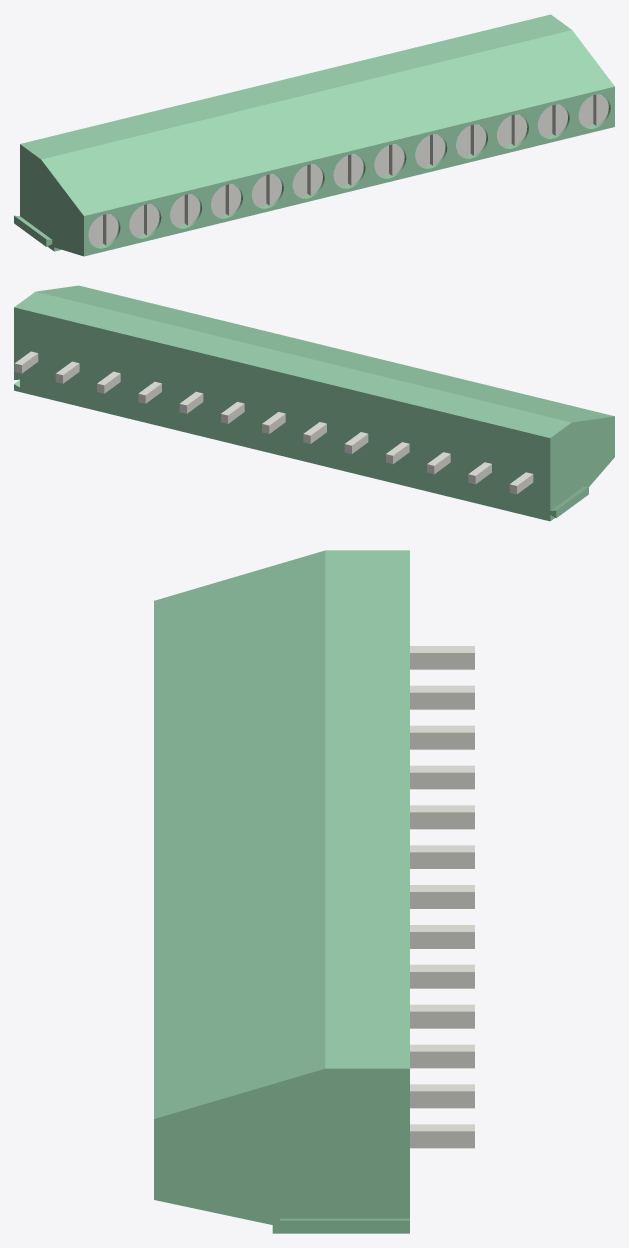
Rendered from TerminalBlock_Phoenix_MKDS-1,5-13-5.08_1x13_P5.08mm_Horizontal.glb.
3 renders of one model, top to bottom at view 1: azimuth 30°, elevation 25°; view 2: azimuth 150°, elevation 25°; view 3: azimuth 270°, elevation 25°, orthographic. The views are drawn at different scales.
Visible parts, largest first — view 1: Shape_IndexedFaceSet.003, Shape_IndexedFaceSet.004, Shape_IndexedFaceSet.002, Shape_IndexedFaceSet; view 2: Shape_IndexedFaceSet.005, Shape_IndexedFaceSet.004, Shape_IndexedFaceSet.003, Shape_IndexedFaceSet; view 3: Shape_IndexedFaceSet.003, Shape_IndexedFaceSet.004, Shape_IndexedFaceSet.011, Shape_IndexedFaceSet.032, Shape_IndexedFaceSet.036, Shape_IndexedFaceSet.040, Shape_IndexedFaceSet.052, Shape_IndexedFaceSet.060, Shape_IndexedFaceSet.064, Shape_IndexedFaceSet.072, Shape_IndexedFaceSet.080, Shape_IndexedFaceSet.044 (+4 smaller).
Boxes of the visible parts, left/top/right/bottom form: Shape_IndexedFaceSet.003: left=41, top=30, right=614, bottom=215; Shape_IndexedFaceSet.004: left=20, top=14, right=571, bottom=159; Shape_IndexedFaceSet.002: left=84, top=86, right=614, bottom=256; Shape_IndexedFaceSet: left=20, top=144, right=83, bottom=256; Shape_IndexedFaceSet.005: left=14, top=307, right=556, bottom=521; Shape_IndexedFaceSet.004: left=14, top=291, right=571, bottom=437; Shape_IndexedFaceSet.003: left=36, top=285, right=613, bottom=422; Shape_IndexedFaceSet: left=550, top=416, right=614, bottom=520; Shape_IndexedFaceSet.003: left=154, top=550, right=325, bottom=1118; Shape_IndexedFaceSet.004: left=325, top=550, right=409, bottom=1068; Shape_IndexedFaceSet.011: left=154, top=1068, right=409, bottom=1233; Shape_IndexedFaceSet.032: left=410, top=1131, right=474, bottom=1148; Shape_IndexedFaceSet.036: left=410, top=1091, right=474, bottom=1108; Shape_IndexedFaceSet.040: left=410, top=1051, right=474, bottom=1068; Shape_IndexedFaceSet.052: left=410, top=1011, right=474, bottom=1028; Shape_IndexedFaceSet.060: left=410, top=732, right=474, bottom=749; Shape_IndexedFaceSet.064: left=410, top=772, right=474, bottom=789; Shape_IndexedFaceSet.072: left=410, top=812, right=474, bottom=829; Shape_IndexedFaceSet.080: left=410, top=692, right=474, bottom=709; Shape_IndexedFaceSet.044: left=410, top=892, right=474, bottom=908.
Size of the model in its own units: 26.29 by 3.86 by 6.81.
